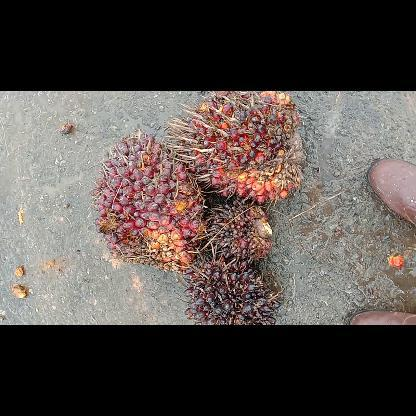TBS abnormal: (180, 244, 283, 324), (201, 202, 275, 262)
TBS masak: (88, 126, 206, 276), (163, 90, 309, 206)
